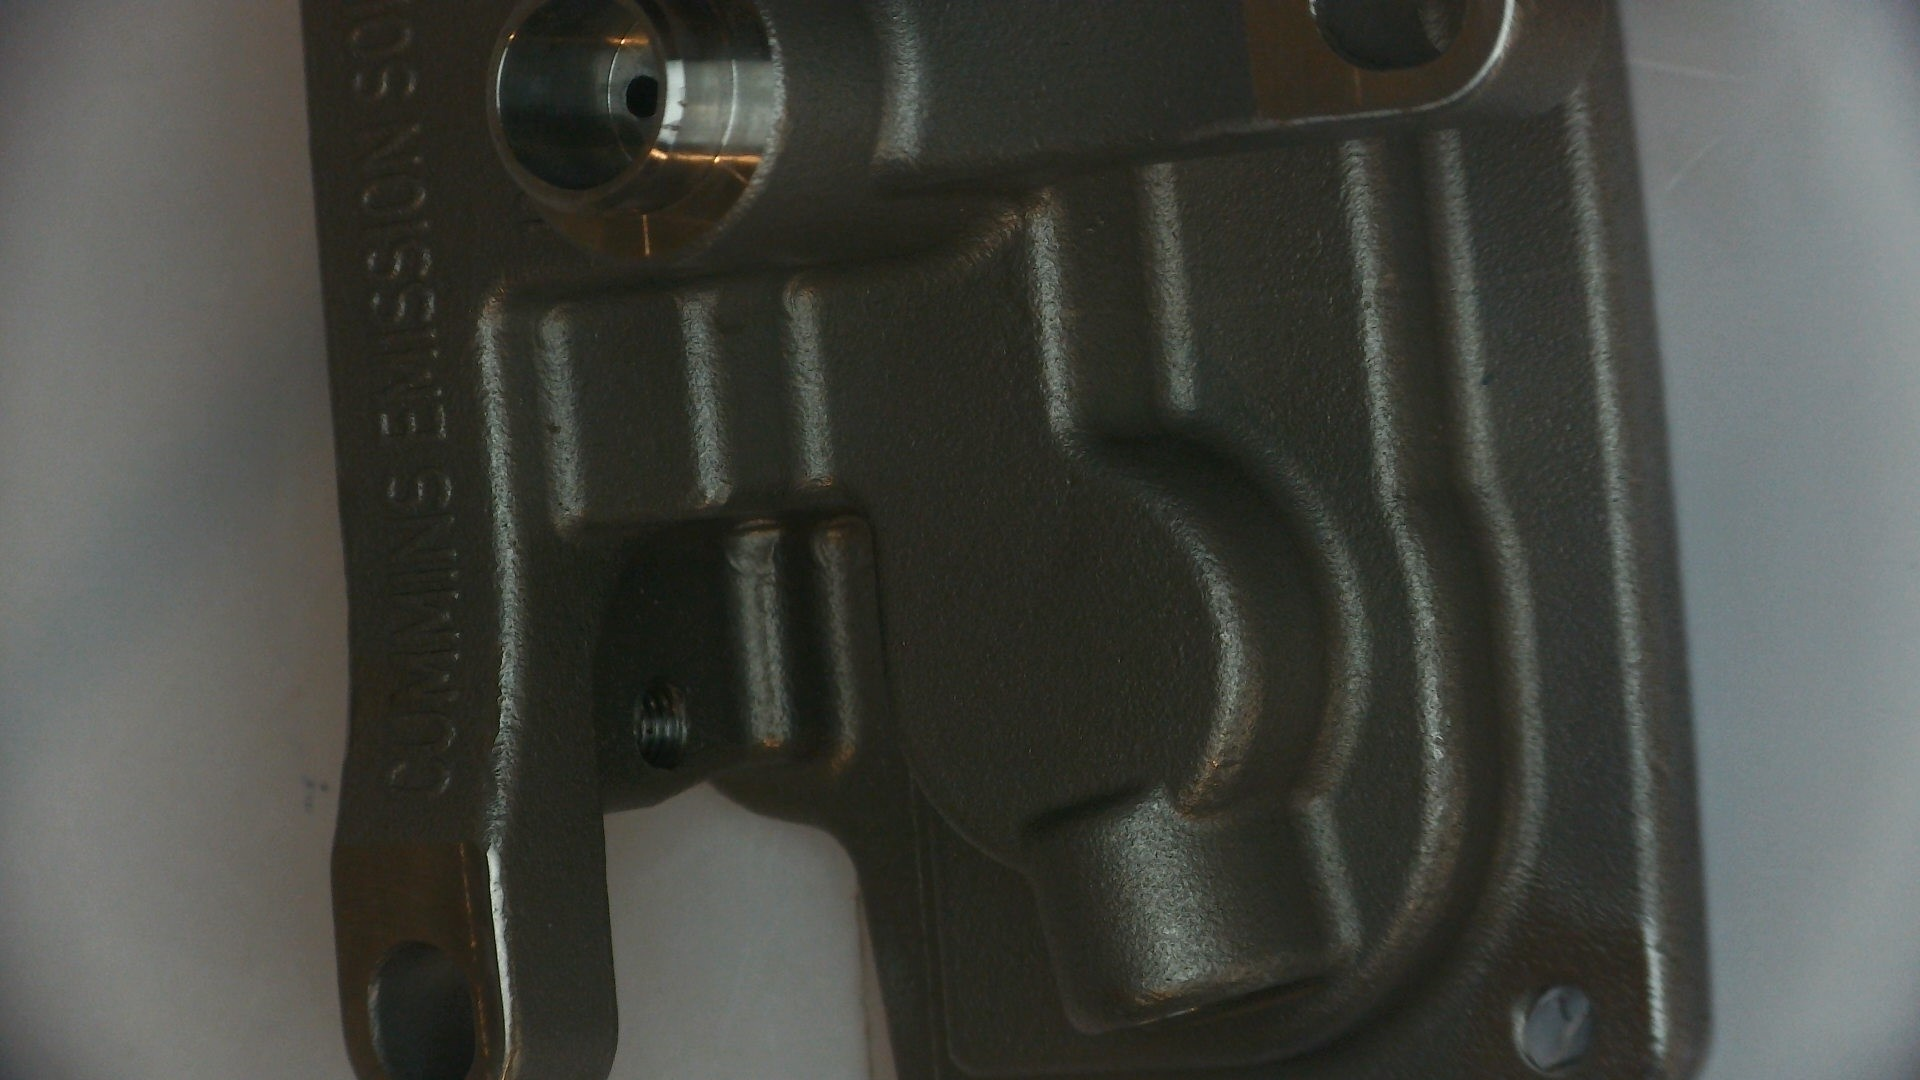thread_absence: (1507, 975, 1600, 1076)
thread_presence: (632, 676, 698, 774)
